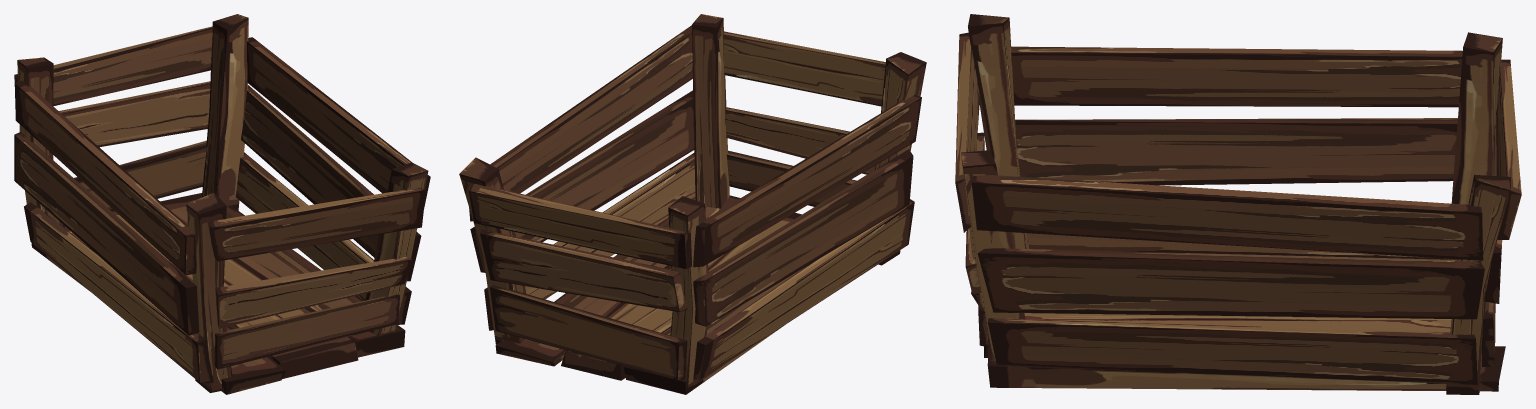
Rendered from SM_PROP_crate_dungeon_01.fbx.
The picture shows the model from 3 angles, left to right: view 1: azimuth 30°, elevation 25°; view 2: azimuth 150°, elevation 25°; view 3: azimuth 270°, elevation 25°; orthographic projection. The views are drawn at different scales.
Parts seen in each view (by area): view 1: SM_PROP_crate_dungeon_01; view 2: SM_PROP_crate_dungeon_01; view 3: SM_PROP_crate_dungeon_01.
Part boxes in pixels (x1,y1,x2,y2): SM_PROP_crate_dungeon_01: (14,14,430,394); SM_PROP_crate_dungeon_01: (459,14,926,394); SM_PROP_crate_dungeon_01: (955,14,1521,394).
Bounding box in the file's own units: 56.12 × 40.68 × 83.69.
